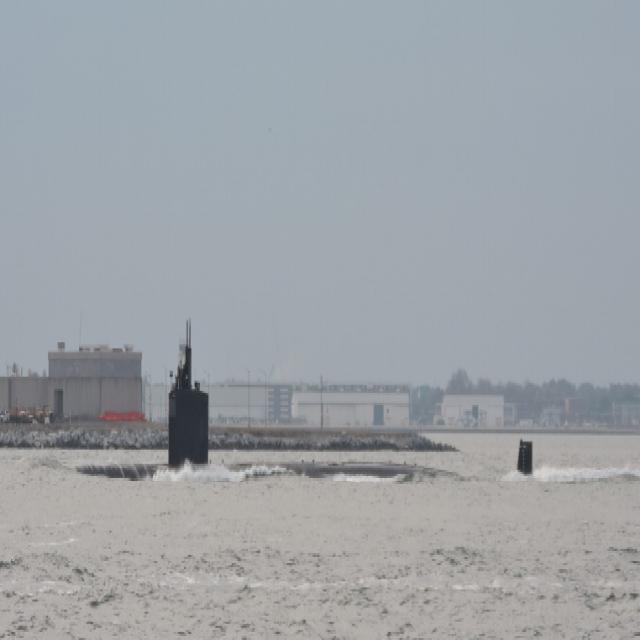submarine: (83, 307, 538, 475)
